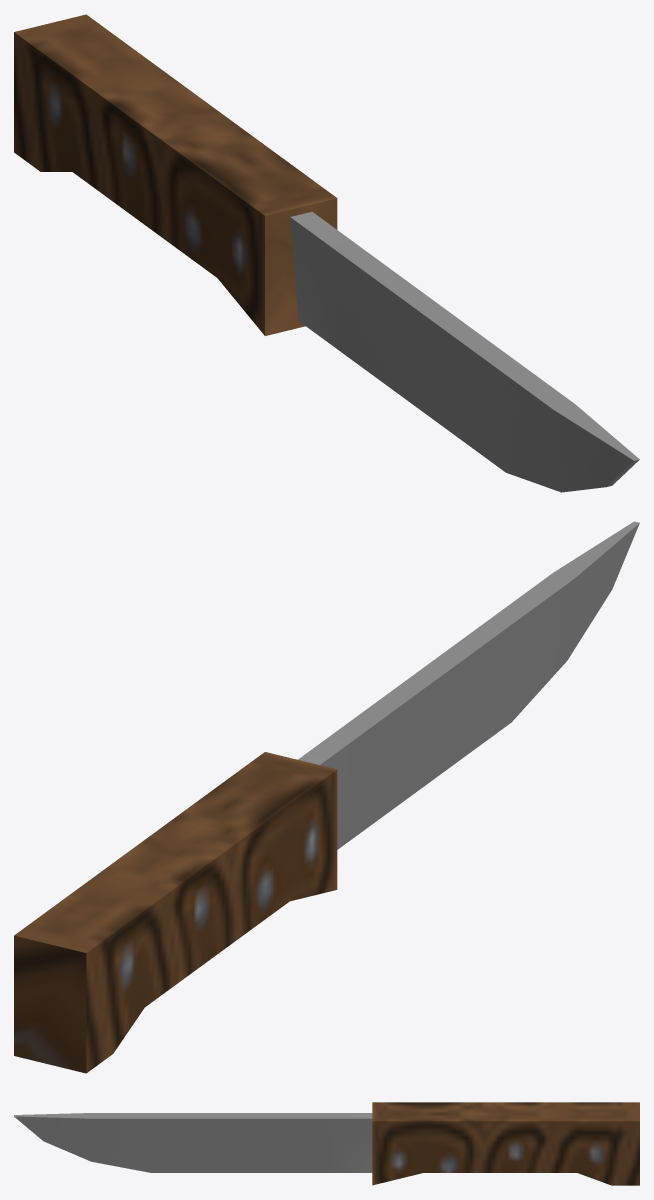
The model's file is ironDagger.fbx.
3 views of the same model, one above another, from view 1: azimuth 30°, elevation 25°; view 2: azimuth 150°, elevation 25°; view 3: azimuth 270°, elevation 25° (orthographic). The views are drawn at different scales.
Parts seen in each view (by area): view 1: ironDagger; view 2: ironDagger; view 3: ironDagger.
Boxes of the visible parts, x1=… form: ironDagger: x1=14, y1=14, x2=639, y2=492; ironDagger: x1=14, y1=521, x2=639, y2=1073; ironDagger: x1=14, y1=1102, x2=639, y2=1185.
Bounding box in the file's own units: 0.2777 × 0.4413 × 3.9.
